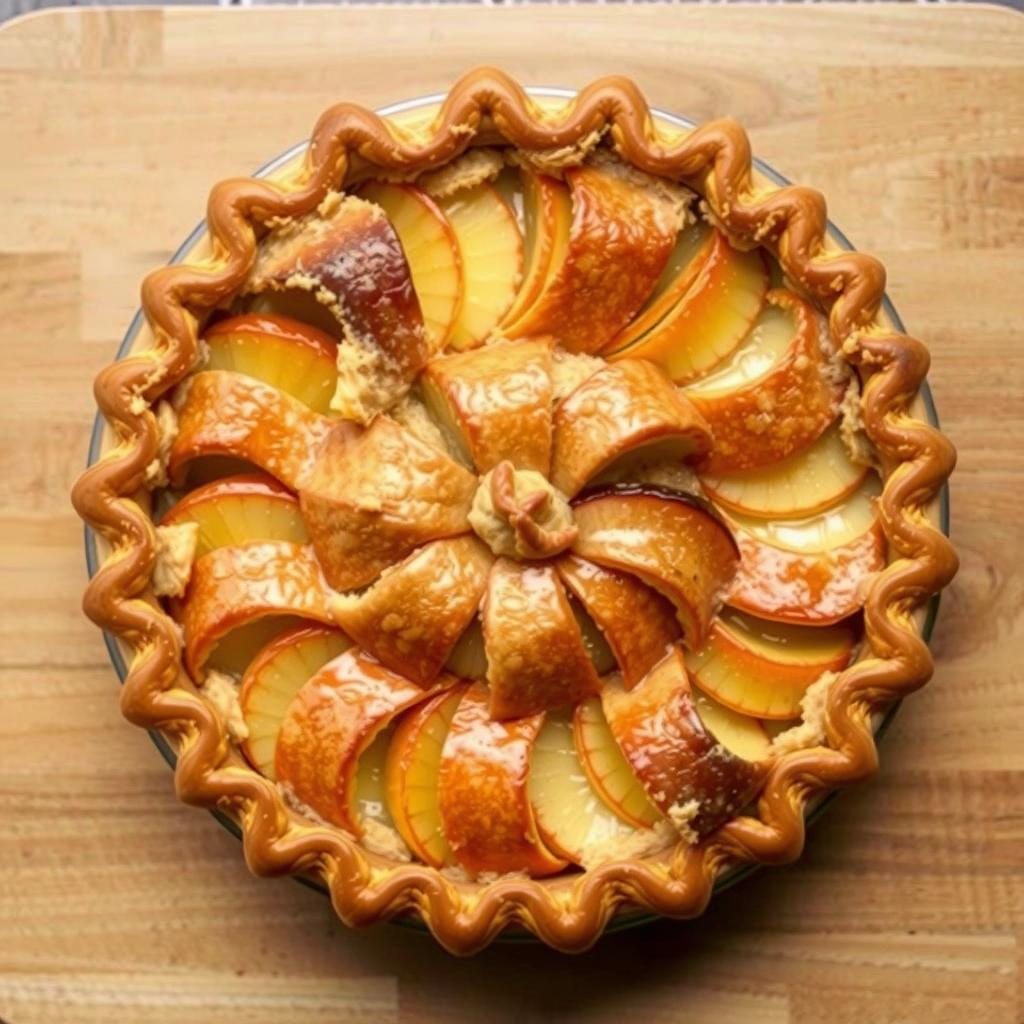pie: (63, 63, 969, 976)
